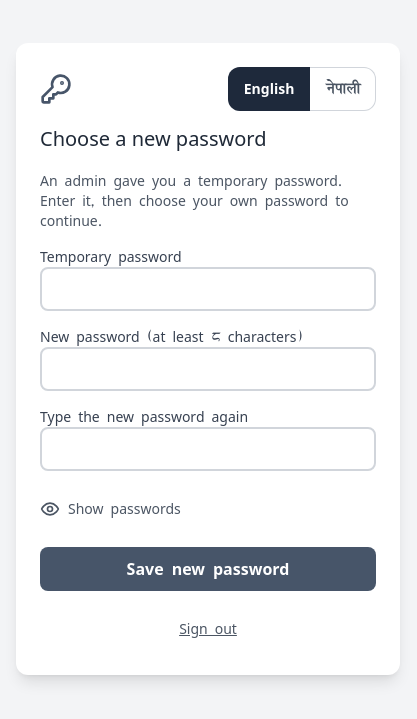
ChangePasswordRequiredPage › refuses when the two new passwords differ
This screenshot has width=417, height=719.
Type "Temp1234" into the password field labelled "Temporary password".
click(208, 289); type("Temp1234")  # box x1=40 y1=267 x2=376 y2=311
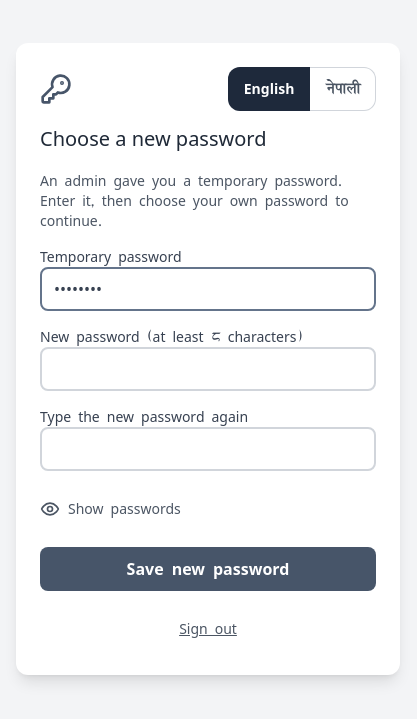
Type "newpass-123" into the password field labelled "New password (at least 8 characters)".
click(208, 369); type("newpass-123")  # box x1=40 y1=347 x2=376 y2=391
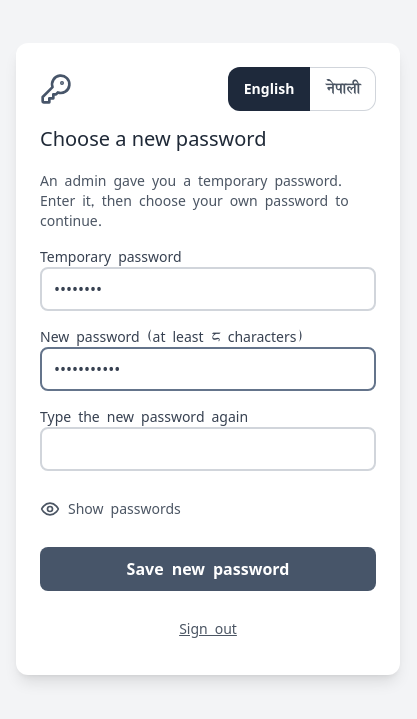
Type "newpass-124" into the password field labelled "Type the new password again".
click(208, 449); type("newpass-124")  # box x1=40 y1=427 x2=376 y2=471
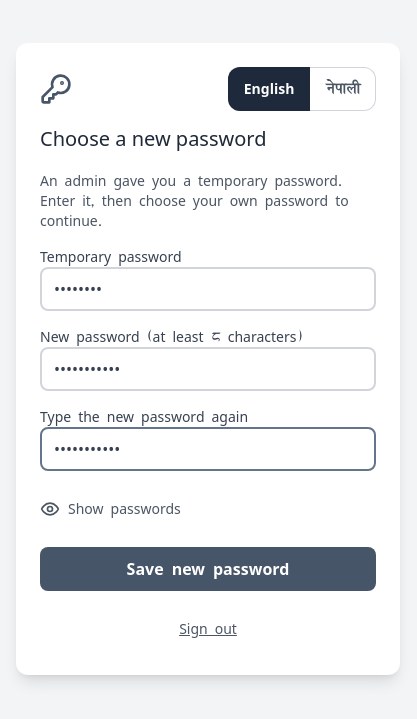
Click the button "Save new password".
click(208, 569)  # box x1=40 y1=547 x2=376 y2=591
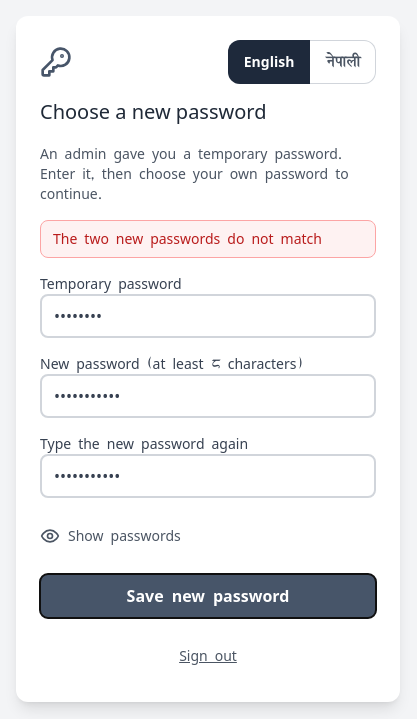
Now the message shows "do not match", box x1=53 y1=227 x2=322 y2=250
